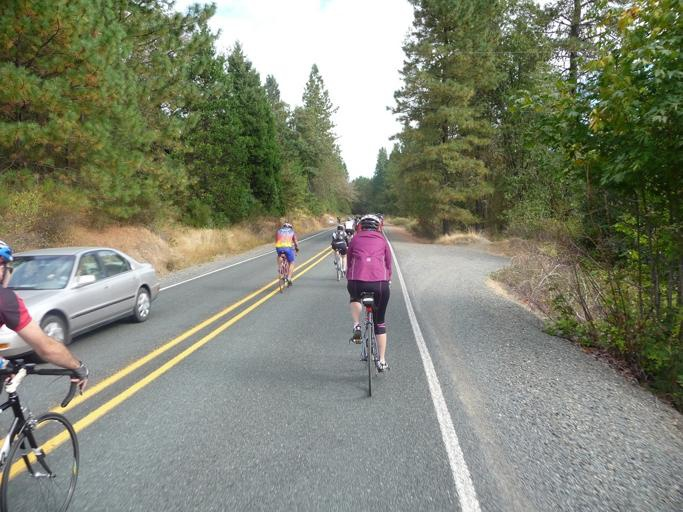non-vehicle: (0, 357, 88, 512), (348, 290, 389, 398), (277, 248, 297, 293), (334, 247, 345, 282)
